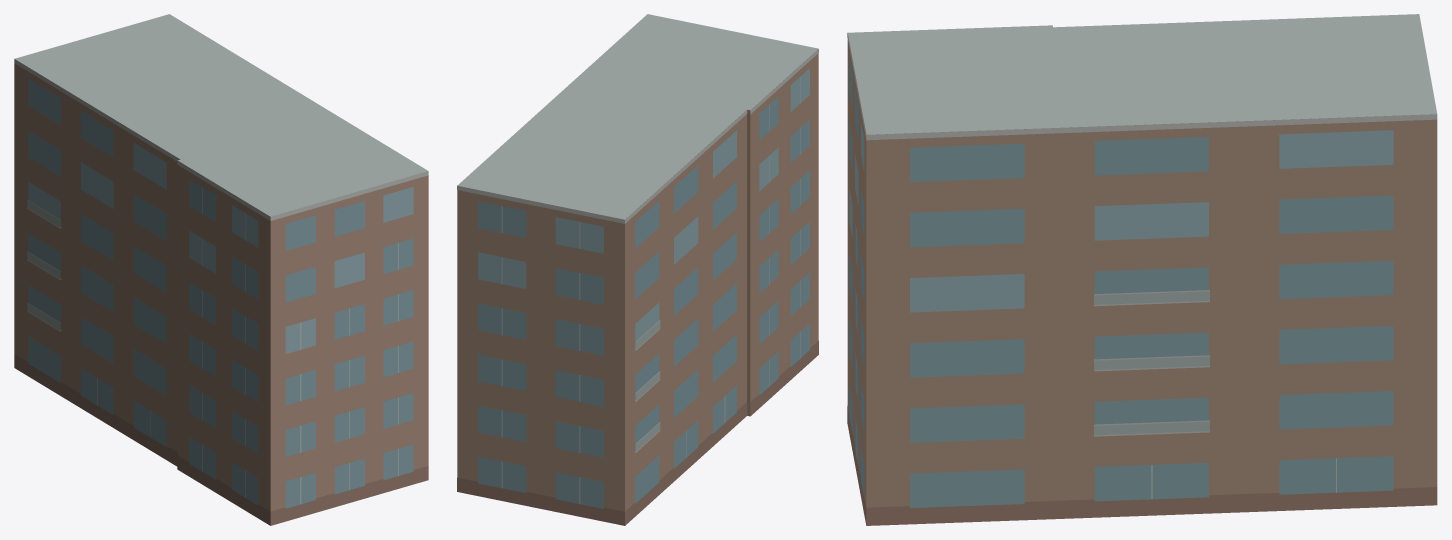
Rendered from survey-upis-32971168.glb.
The picture shows the model from 3 angles, left to right: view 1: azimuth 30°, elevation 25°; view 2: azimuth 150°, elevation 25°; view 3: azimuth 270°, elevation 25°; orthographic projection. The views are drawn at different scales.
Visible parts, largest first — view 1: survey-upis-32971168.tmp; view 2: survey-upis-32971168.tmp; view 3: survey-upis-32971168.tmp.
Boxes of the visible parts, x1,y1,x2,y2 form: survey-upis-32971168.tmp: (14, 14, 428, 525); survey-upis-32971168.tmp: (457, 14, 818, 525); survey-upis-32971168.tmp: (847, 14, 1437, 525).
Size of the model in its own units: 11.6 by 17.5 by 23.93.
